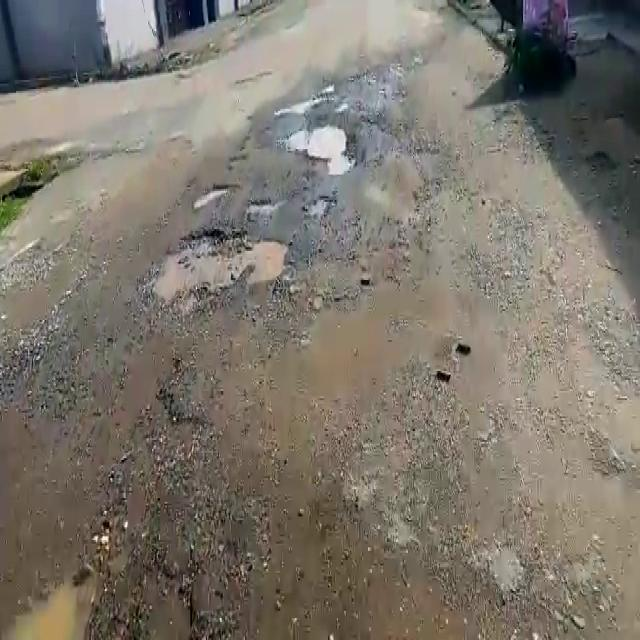Pothole: (138, 227, 290, 311), (280, 118, 348, 160), (194, 182, 236, 210), (283, 95, 329, 116), (297, 196, 332, 222), (244, 199, 280, 215)
